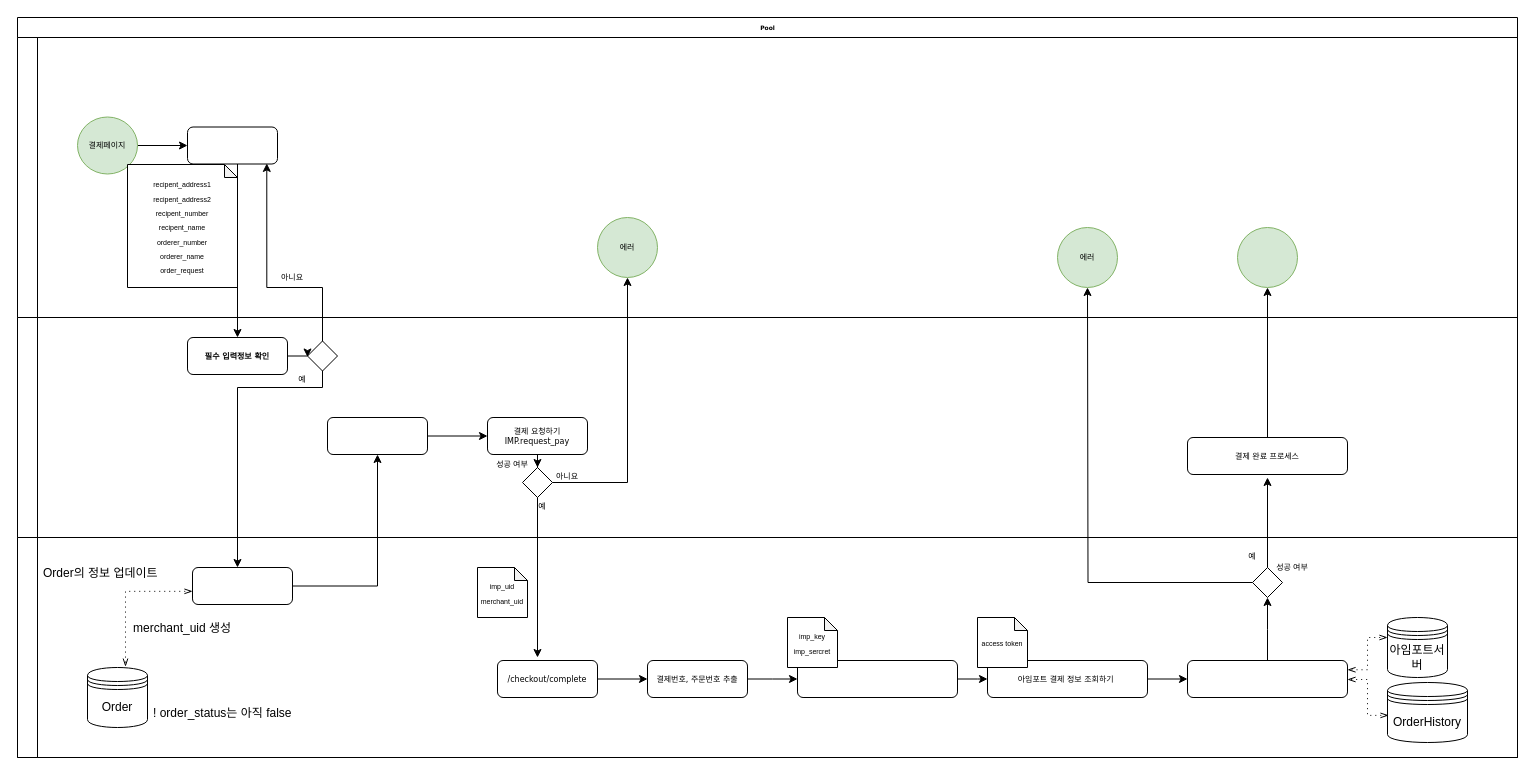
Image size: 1535x775. Some labels were removed from this diagram. The box of each missing label's shape, as (x1, y1, x2, y2) in pixels:
/checkout/payment: (192, 566, 292, 604)
REST_API access token 발급 https://api.iamport.kr/users/getToken: (796, 660, 958, 698)
결제 정보 json으로 받음: (326, 416, 428, 454)
결제 정보 검증 후 저장: (1186, 660, 1348, 698)
결제하기/필수정보입력: (186, 126, 278, 164)
고객: (16, 36, 1518, 318)
백엔드: (16, 536, 1518, 758)
성공 결제완료페이지: (1236, 226, 1298, 288)
프론트엔드: (16, 316, 1518, 538)
